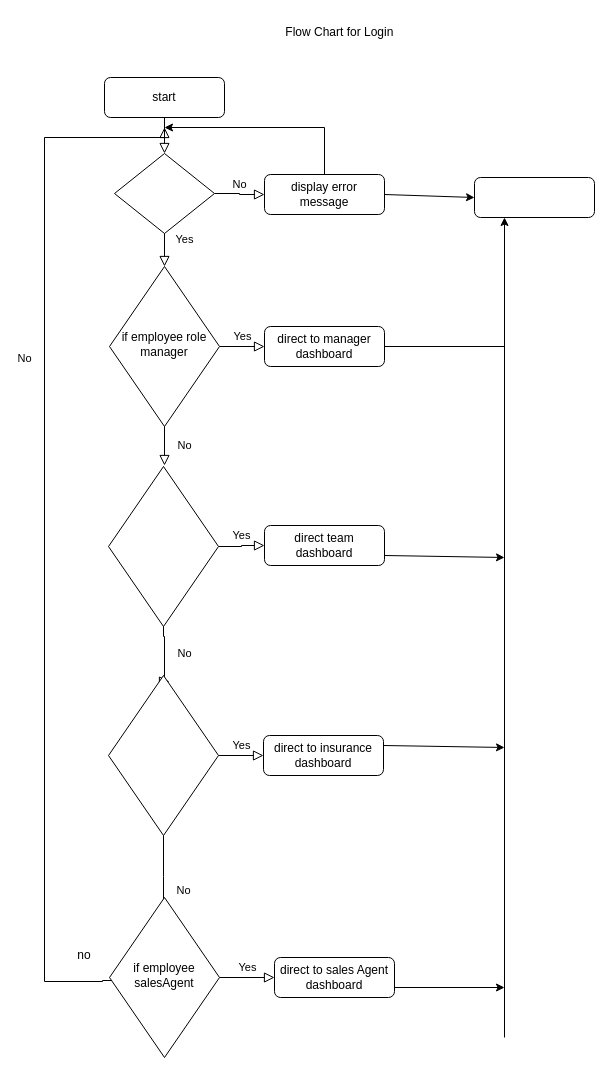
Image size: 612x1075. Some labels were removed from this diagram. The centre of each missing label's shape, as x and y in pixels:
end: (x=534, y=197)
enter agent no and password: (x=164, y=193)
if employee insurance: (x=163, y=755)
if employee role team leader or supervisor: (x=163, y=546)
